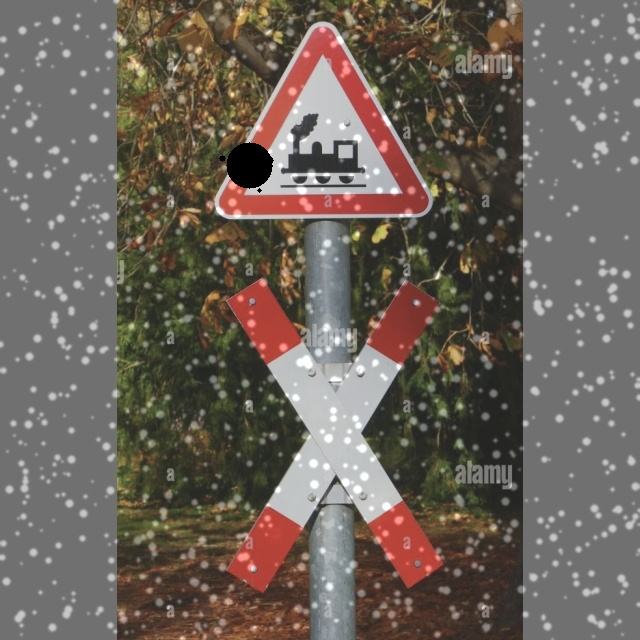Unguarded_Level_Crossing: (234, 47, 432, 220)
